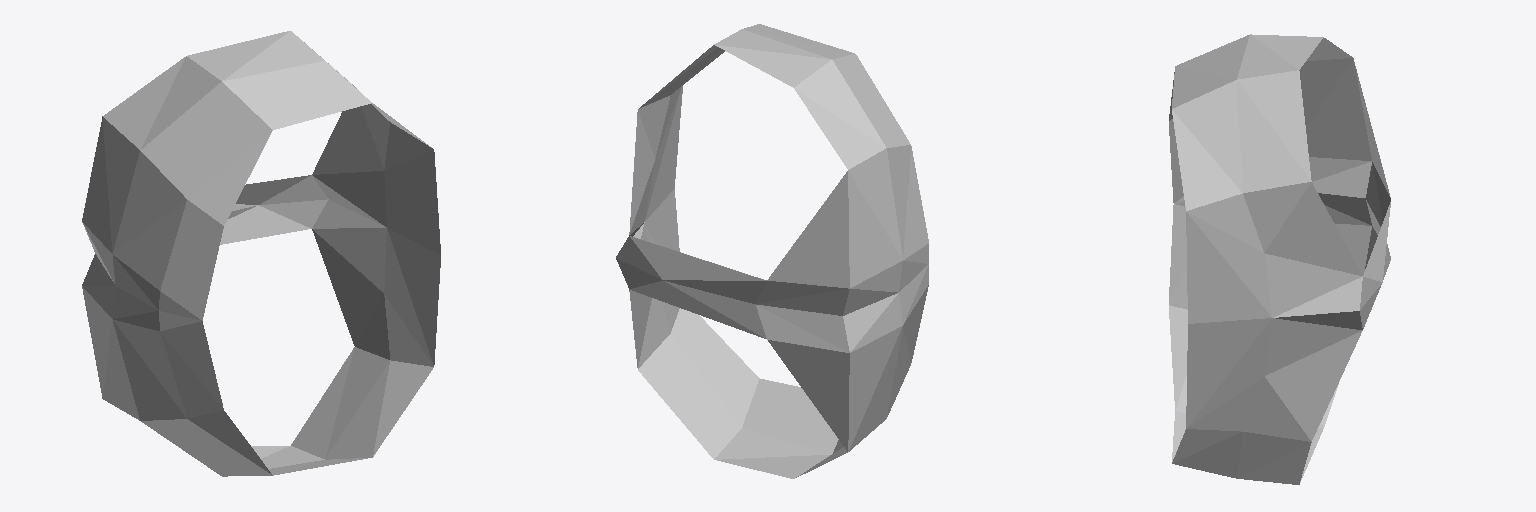
The picture shows the model from 3 angles: view 1: azimuth 30°, elevation 25°; view 2: azimuth 150°, elevation 25°; view 3: azimuth 270°, elevation 25°; orthographic projection.
Parts seen in each view (by area): view 1: vr_pelvis_001; view 2: vr_pelvis_001; view 3: vr_pelvis_001.
Part boxes in pixels (x1,y1,x2,y2): vr_pelvis_001: (82, 31, 440, 476); vr_pelvis_001: (616, 24, 928, 478); vr_pelvis_001: (1169, 34, 1390, 484).
Bounding box in the file's own units: 17.89 × 25.49 × 12.39.